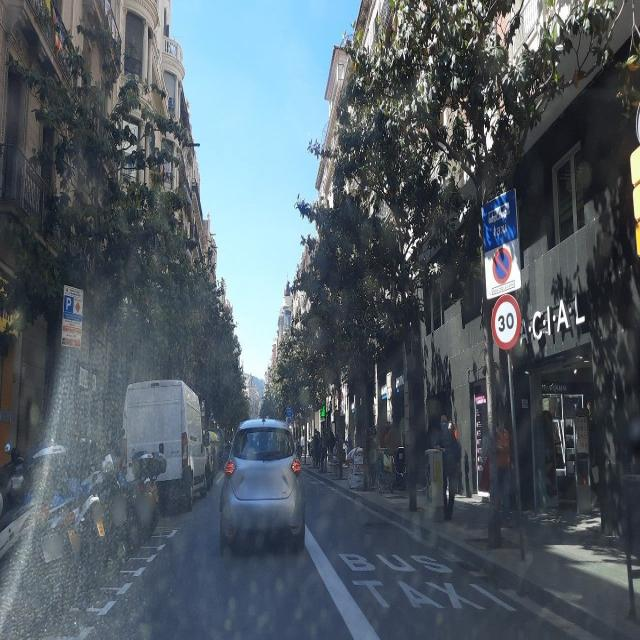forb_stopping: (485, 244, 517, 295)
